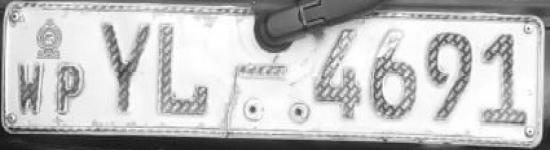-: (234, 60, 290, 84)
1: (474, 28, 530, 130)
4: (308, 26, 369, 124)
6: (367, 23, 422, 125)
9: (424, 28, 476, 131)
L: (156, 18, 219, 123)
P: (51, 58, 92, 122)
W: (12, 57, 49, 116)
Y: (96, 15, 156, 118)
